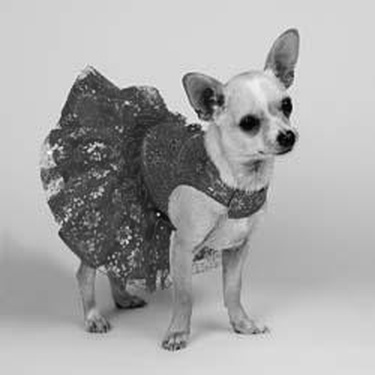dog: (34, 13, 307, 356)
